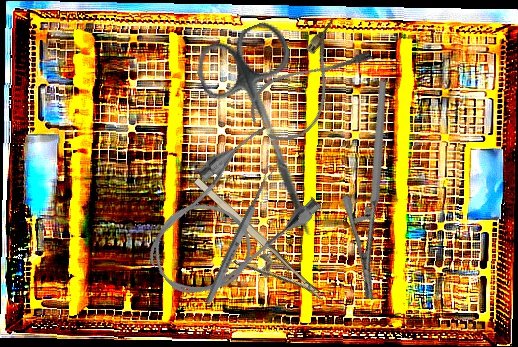Cannula: (124, 117, 331, 318), (240, 16, 377, 154)
Iris Scissors: (188, 16, 357, 252)
Needle Holder: (300, 80, 453, 301), (173, 173, 326, 326)
Surgical Spoon: (203, 163, 277, 306)
